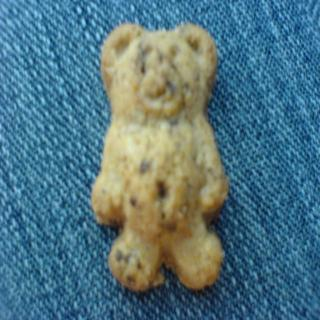Cookie: (90, 21, 228, 294)
